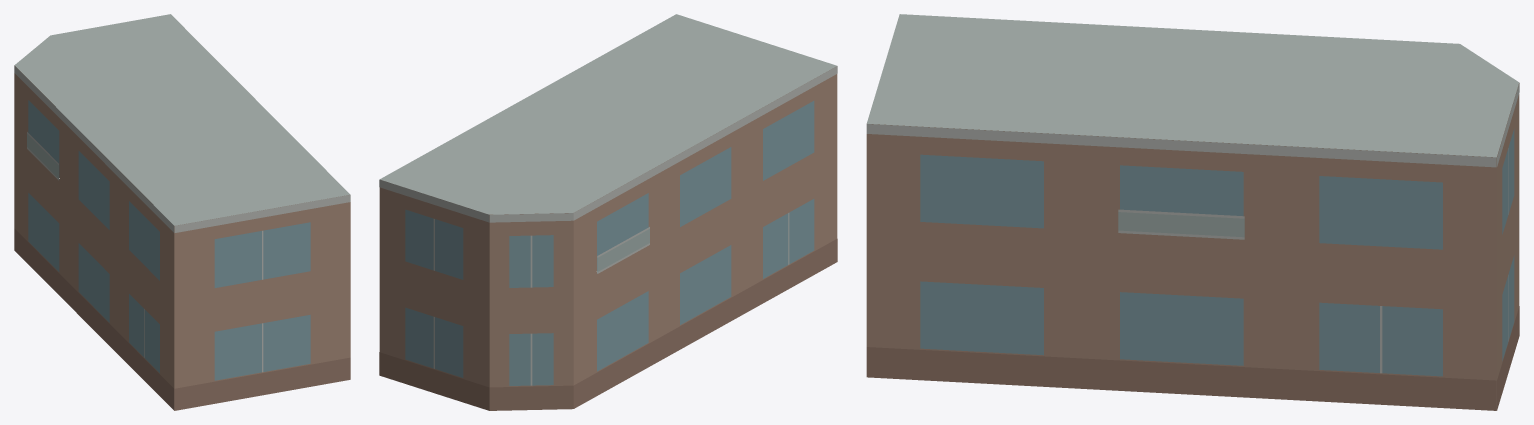
The model's file is survey-upis-32930352.glb.
3 views of the same model, side by side, from view 1: azimuth 30°, elevation 25°; view 2: azimuth 150°, elevation 25°; view 3: azimuth 270°, elevation 25° (orthographic). The views are drawn at different scales.
Parts seen in each view (by area): view 1: survey-upis-32930352.tmp; view 2: survey-upis-32930352.tmp; view 3: survey-upis-32930352.tmp.
Part boxes in pixels (bbox=[...]): survey-upis-32930352.tmp: bbox=[14, 14, 350, 410]; survey-upis-32930352.tmp: bbox=[379, 14, 837, 410]; survey-upis-32930352.tmp: bbox=[866, 14, 1519, 410].
Size of the model in its own units: 7.4 by 6.1 by 14.24.
